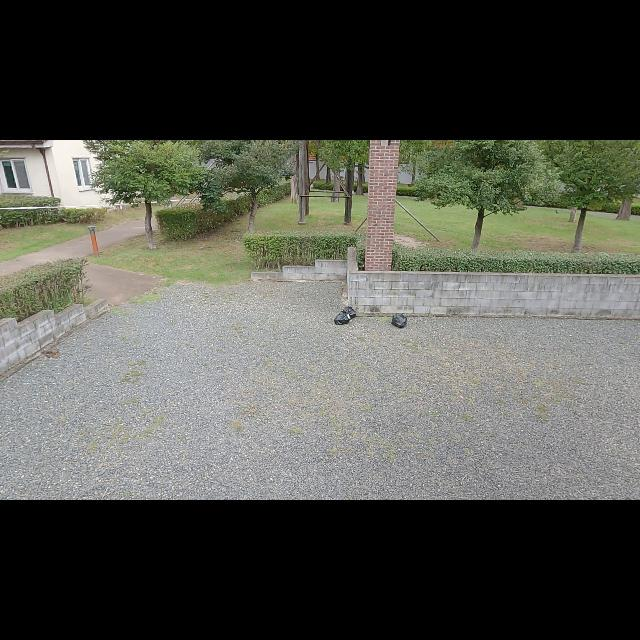trash: (389, 310, 408, 330), (340, 306, 358, 322), (334, 310, 351, 326)
